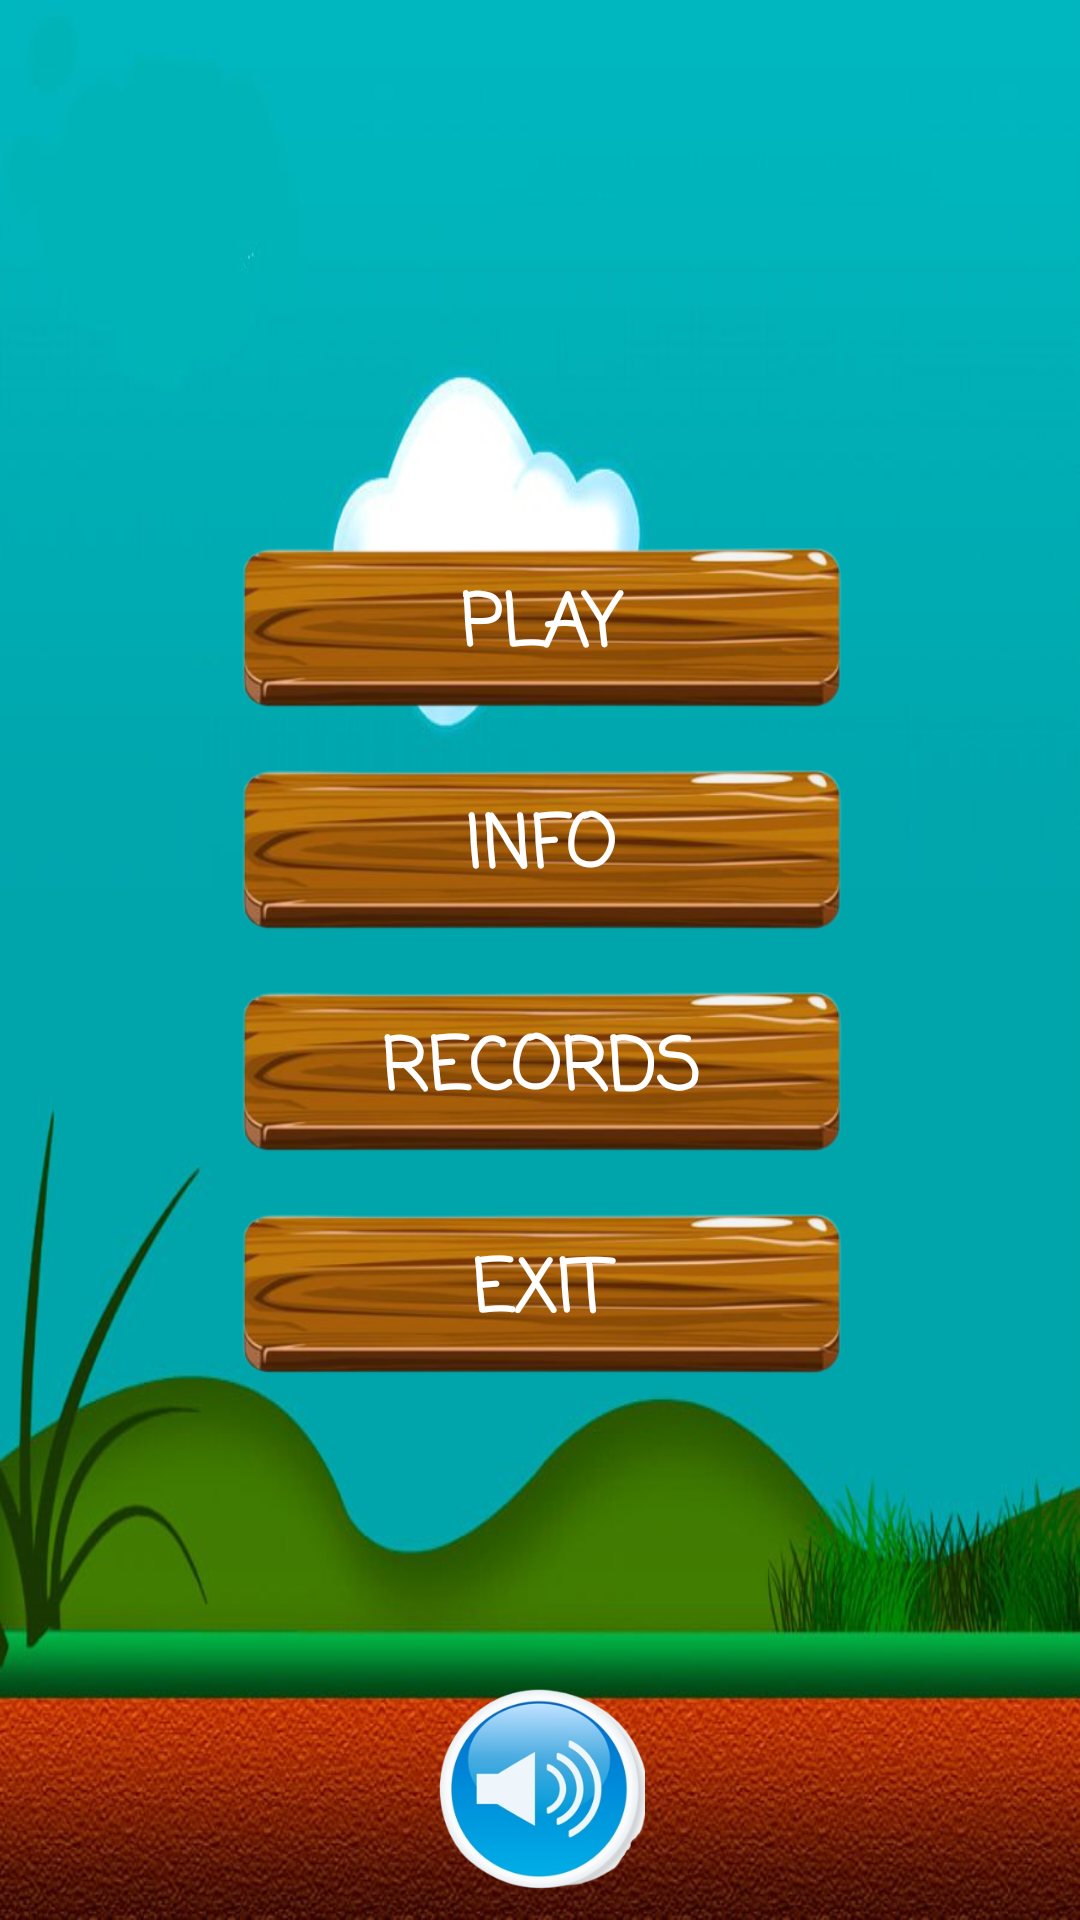

Icon click points for this 1080 × 1920 phone screenshot, format (x,y):
volume: (540,1791)
